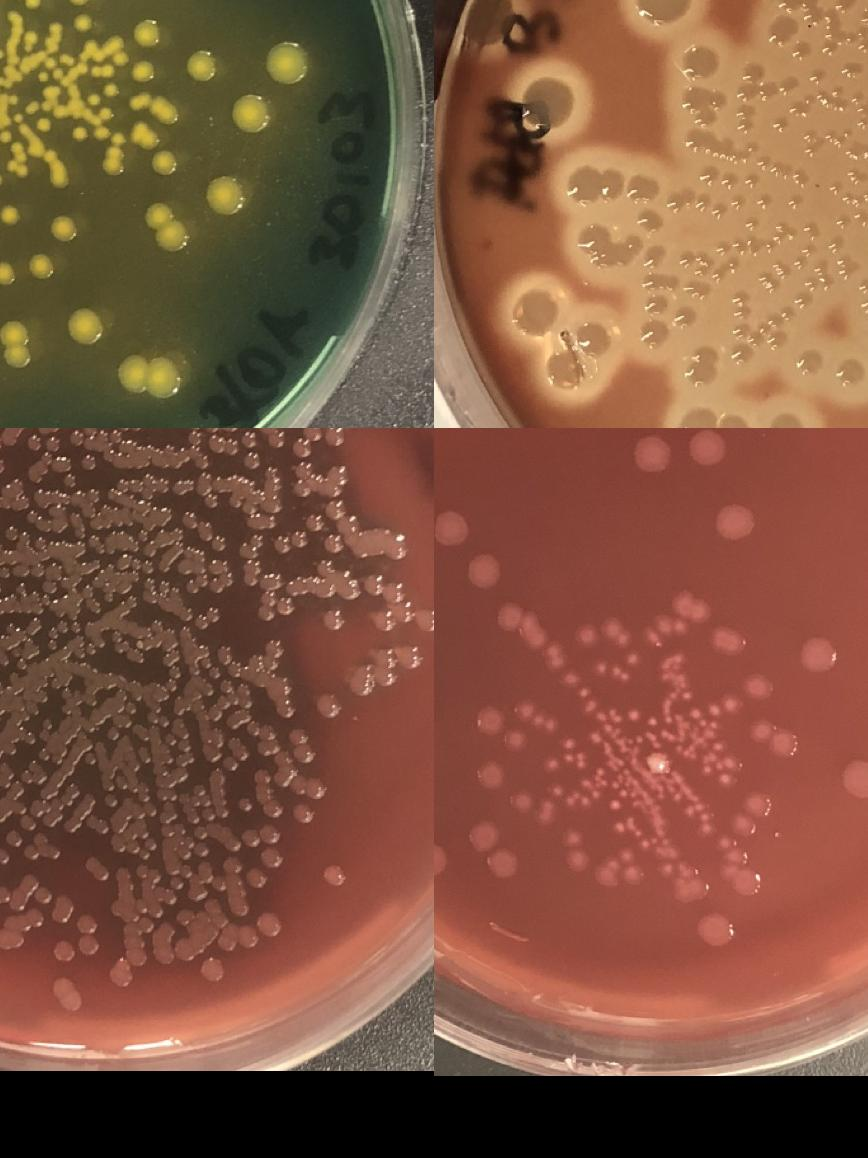pddamselae: (521, 75, 579, 129), (514, 290, 558, 334), (564, 164, 604, 204), (546, 349, 586, 389), (634, 0, 692, 22), (683, 41, 718, 77), (574, 318, 609, 354), (677, 406, 717, 428), (686, 359, 714, 387), (682, 125, 710, 153), (796, 349, 822, 378), (838, 358, 864, 386), (766, 18, 792, 46), (642, 320, 668, 348), (576, 225, 602, 253), (764, 411, 804, 428)
tmaritimum: (498, 602, 566, 668), (465, 818, 520, 880), (718, 836, 764, 896), (750, 718, 802, 760), (700, 741, 742, 788), (732, 791, 772, 836), (604, 846, 646, 887), (636, 728, 672, 774), (662, 689, 693, 741), (672, 863, 710, 903), (799, 635, 835, 671), (718, 504, 754, 540), (698, 912, 734, 948), (689, 429, 725, 465), (633, 435, 669, 471), (465, 551, 501, 587), (434, 510, 470, 546), (673, 590, 711, 622), (474, 758, 508, 792), (474, 704, 508, 738), (708, 624, 745, 655), (564, 828, 588, 871), (690, 707, 722, 739), (661, 652, 688, 688), (561, 733, 588, 769), (602, 618, 633, 648), (708, 691, 744, 715), (594, 658, 632, 680), (845, 761, 868, 797), (639, 835, 672, 855), (567, 789, 604, 806), (745, 674, 770, 698), (575, 622, 600, 646), (510, 788, 534, 812), (505, 728, 529, 752), (513, 696, 536, 721), (594, 708, 626, 724), (696, 811, 714, 837), (434, 840, 447, 876), (608, 789, 628, 812), (654, 613, 673, 631), (676, 742, 696, 759), (657, 860, 675, 878), (624, 650, 642, 668), (561, 669, 579, 687), (543, 756, 561, 774), (543, 718, 561, 736), (647, 630, 664, 648), (576, 684, 594, 699), (626, 706, 642, 722), (683, 802, 704, 814), (610, 756, 624, 772), (582, 699, 597, 712), (662, 729, 675, 742)
vangil: (321, 464, 409, 558), (337, 572, 434, 633), (348, 644, 420, 697), (218, 912, 282, 950), (208, 679, 253, 728), (55, 914, 100, 960), (188, 783, 230, 821), (114, 472, 168, 500), (207, 428, 259, 457), (228, 824, 280, 851), (256, 769, 282, 818), (257, 588, 295, 621), (248, 638, 282, 672), (52, 976, 82, 1012), (184, 572, 234, 592), (290, 728, 317, 764), (22, 872, 52, 904), (291, 428, 322, 457), (224, 736, 250, 770), (292, 776, 328, 800), (274, 530, 310, 554), (24, 432, 65, 453), (22, 830, 50, 860), (292, 461, 314, 498), (186, 431, 208, 467), (128, 836, 157, 860), (85, 855, 111, 881), (122, 918, 154, 938), (108, 962, 132, 987), (52, 893, 72, 923), (170, 864, 193, 890), (257, 428, 286, 448), (322, 607, 346, 631), (316, 692, 340, 716), (175, 938, 199, 962), (1, 925, 25, 949), (196, 606, 222, 628), (322, 863, 346, 886), (240, 533, 264, 556), (200, 955, 222, 980), (136, 864, 162, 882), (63, 428, 86, 448), (146, 700, 164, 725), (255, 739, 282, 755), (293, 802, 313, 822), (262, 846, 282, 866), (246, 866, 266, 886), (243, 449, 263, 469), (230, 896, 250, 916), (222, 856, 242, 876), (210, 534, 230, 554), (180, 510, 200, 530), (79, 452, 99, 472), (60, 470, 80, 490), (33, 487, 53, 507), (286, 576, 308, 594), (130, 558, 154, 574), (174, 907, 194, 926), (306, 511, 324, 531), (128, 946, 146, 966), (10, 561, 30, 579), (214, 645, 232, 664), (19, 812, 37, 830), (4, 829, 22, 847), (325, 428, 345, 444), (27, 908, 44, 926), (278, 700, 296, 716), (132, 897, 150, 913), (114, 866, 132, 882), (158, 921, 175, 937), (1, 740, 18, 756), (18, 767, 36, 782), (82, 750, 98, 766), (64, 782, 80, 798), (0, 883, 12, 903), (158, 947, 172, 963), (4, 523, 18, 539), (264, 465, 278, 479), (244, 571, 258, 585), (242, 502, 256, 516), (239, 796, 253, 810), (208, 665, 222, 679), (194, 824, 208, 838), (168, 664, 182, 678), (164, 732, 178, 746), (164, 890, 178, 904), (143, 803, 157, 817), (124, 595, 138, 609), (228, 494, 241, 508), (206, 748, 220, 761), (205, 494, 218, 508), (196, 843, 210, 856), (172, 480, 186, 493), (104, 793, 118, 806), (0, 846, 10, 864), (105, 726, 118, 739), (211, 772, 225, 784), (136, 530, 150, 542), (125, 704, 139, 716), (111, 840, 125, 852), (94, 820, 108, 832), (247, 722, 260, 734), (0, 455, 7, 476), (210, 560, 222, 572)
vharveyi: (117, 350, 182, 398), (136, 125, 180, 178), (144, 200, 188, 251), (264, 39, 310, 85), (231, 91, 272, 133), (65, 304, 105, 346), (206, 174, 246, 214), (0, 318, 30, 370), (184, 47, 220, 85), (48, 210, 80, 244), (132, 16, 162, 50), (28, 249, 56, 281), (87, 82, 120, 107), (37, 56, 64, 83), (94, 125, 127, 147), (132, 57, 155, 83), (0, 204, 24, 226), (102, 155, 124, 177), (0, 257, 17, 285), (90, 62, 117, 78), (73, 12, 93, 32), (34, 115, 54, 133), (72, 126, 88, 140), (24, 30, 40, 43), (68, 0, 92, 7), (12, 111, 25, 123), (0, 130, 12, 142)
